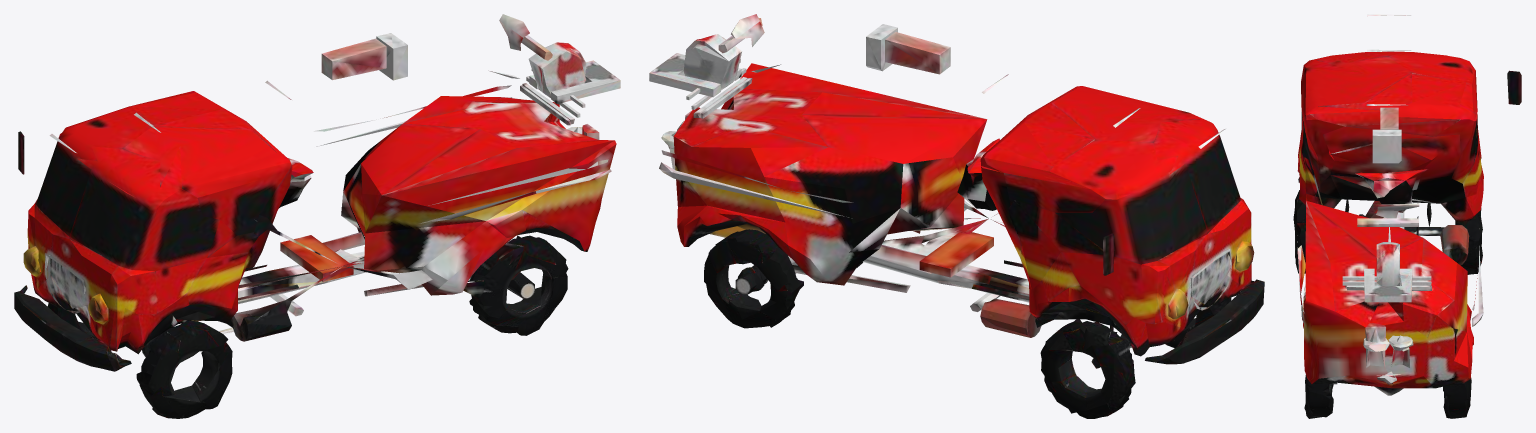
File: veh_fire.glb
The picture shows the model from 3 angles, left to right: view 1: azimuth 30°, elevation 25°; view 2: azimuth 150°, elevation 25°; view 3: azimuth 270°, elevation 25°; orthographic projection. The views are drawn at different scales.
Visible parts, largest first — view 1: output_unwrapped; view 2: output_unwrapped; view 3: output_unwrapped.
Boxes of the visible parts, <box> form: output_unwrapped: <box>14,14,620,418</box>; output_unwrapped: <box>649,14,1264,418</box>; output_unwrapped: <box>1293,14,1521,418</box>.
Bounding box in the file's own units: 0.8818 × 0.4248 × 0.3579.
Materials: 1 (1 with a texture image).
